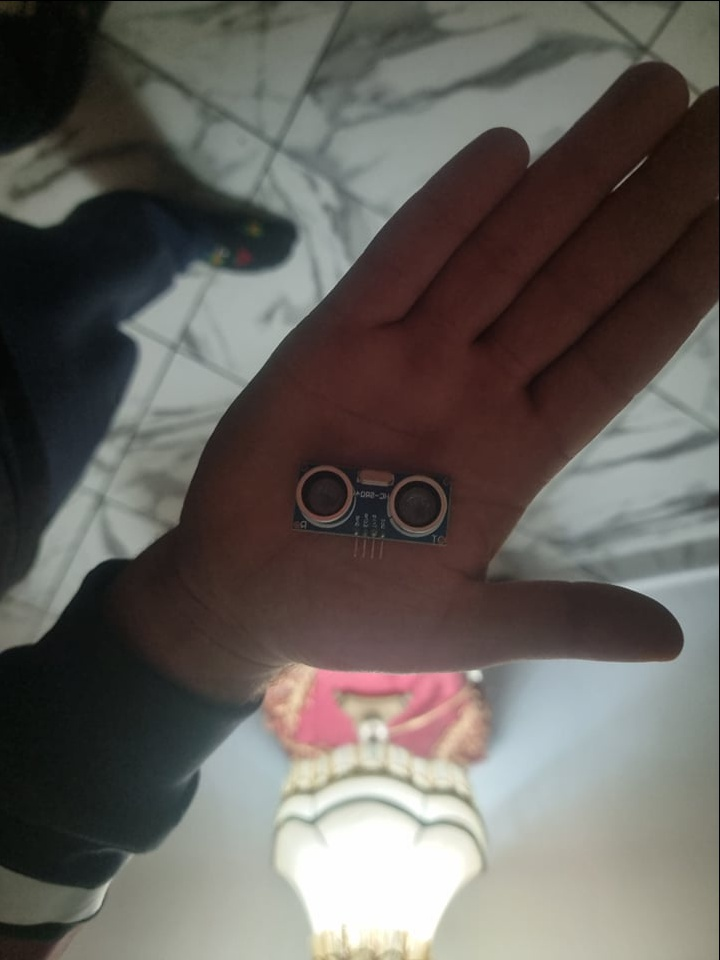SENSOR: (287, 458, 459, 545)
